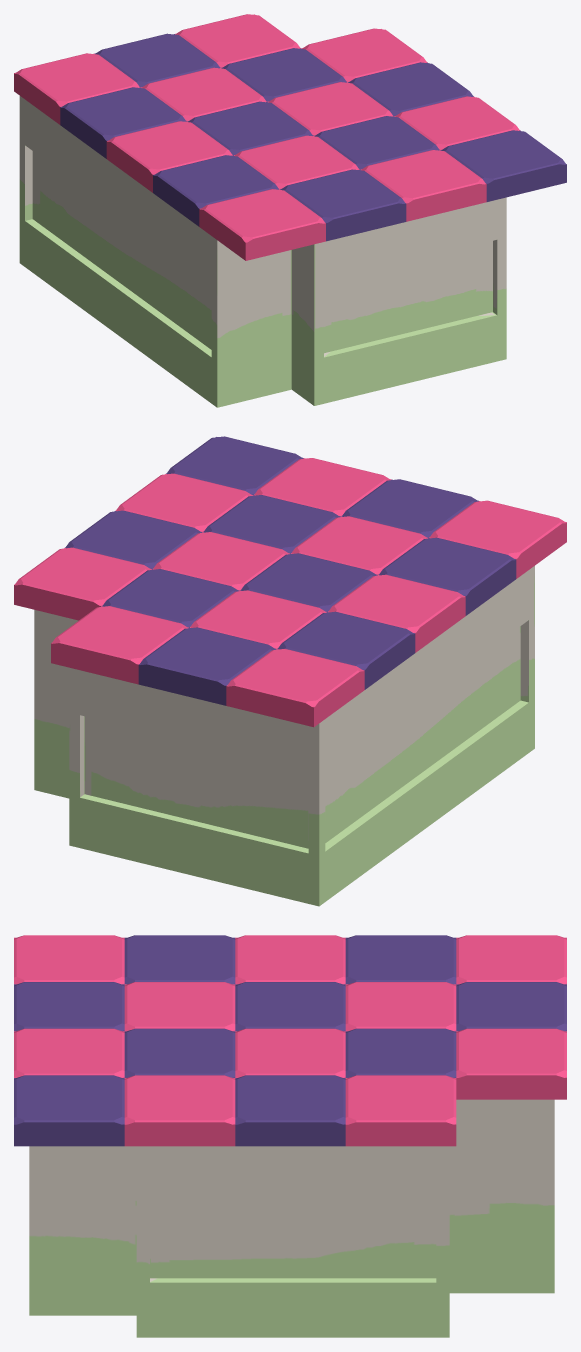
File: big platform 2.fbx
3 renders of one model, top to bottom at view 1: azimuth 30°, elevation 25°; view 2: azimuth 150°, elevation 25°; view 3: azimuth 270°, elevation 25°, orthographic. The views are drawn at different scales.
Visible parts, largest first — view 1: Cube.075, Cube.042; view 2: Cube.075, Cube.042; view 3: Cube.075, Cube.042.
Boxes of the visible parts, left/top/right/bottom form: Cube.075: left=14, top=14, right=566, bottom=260; Cube.042: left=19, top=96, right=506, bottom=407; Cube.075: left=14, top=436, right=566, bottom=727; Cube.042: left=34, top=566, right=534, bottom=906; Cube.075: left=14, top=935, right=566, bottom=1146; Cube.042: left=29, top=1099, right=554, bottom=1337.
Size of the model in its own units: 400 by 225 by 500.
